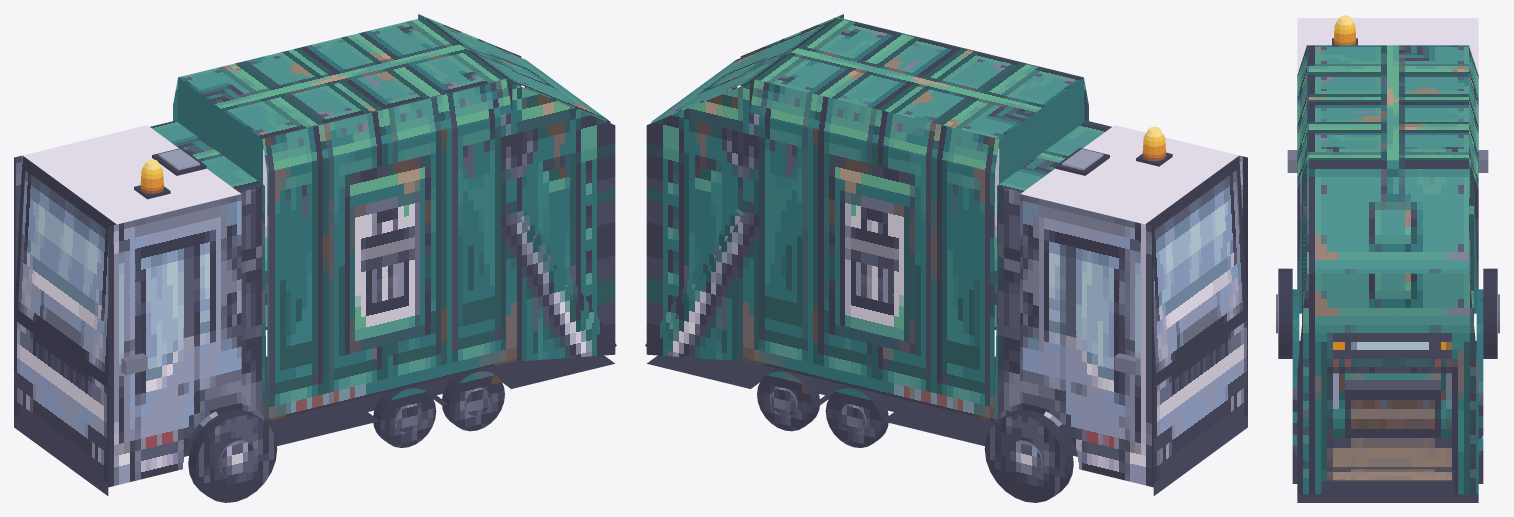
Rendered from garbage-truck-green-v1.glb.
3 views of the same model, side by side, from view 1: azimuth 30°, elevation 25°; view 2: azimuth 150°, elevation 25°; view 3: azimuth 270°, elevation 25° (orthographic). The views are drawn at different scales.
Visible parts, largest first — view 1: Container-west, Cab-west, Loader-side-west, Container-roof, Windshield-glass, Front-fascia, Cab-roof, Container-shoulder-west, Underfloor, Tire_FL, Chassis-coupling-2, Container-front (+10 smaller); view 2: Container-east, Cab-east, Loader-side-east, Container-roof, Windshield-glass, Front-fascia, Cab-roof, Container-shoulder-east, Underfloor, Tire_FR, Chassis-coupling-3, Container-front (+10 smaller); view 3: Container-roof, Loader-roof, Loader-rear-upper, Loader-mouth-back, Cab-roof, Underfloor, Loader-rear-frame-1, Loader-rear-frame--1, Loader-mouth-sill, Tire_FL, Tire_FR, Chassis-coupling-5 (+7 smaller).
Boxes of the visible parts, x1,y1,x2,y2 form: Container-west: (267, 114, 512, 421); Cab-west: (108, 194, 263, 487); Loader-side-west: (512, 83, 615, 361); Container-roof: (178, 17, 506, 138); Windshield-glass: (18, 170, 108, 373); Front-fascia: (14, 320, 108, 495); Cab-roof: (23, 125, 240, 224); Container-shoulder-west: (262, 79, 512, 174); Underfloor: (184, 355, 614, 456); Tire_FL: (188, 410, 277, 502); Chassis-coupling-2: (239, 186, 264, 417); Container-front: (177, 77, 267, 421); Container-east: (749, 114, 994, 421); Cab-east: (998, 194, 1153, 487); Loader-side-east: (646, 83, 749, 361); Container-roof: (755, 17, 1083, 138); Windshield-glass: (1153, 170, 1243, 373); Front-fascia: (1153, 320, 1247, 495); Cab-roof: (1021, 125, 1238, 224); Container-shoulder-east: (749, 79, 999, 174); Underfloor: (647, 355, 1077, 456); Tire_FR: (984, 410, 1073, 502); Chassis-coupling-3: (997, 186, 1022, 417); Container-front: (994, 77, 1084, 421); Container-roof: (1307, 45, 1468, 160); Loader-roof: (1307, 160, 1468, 273); Loader-rear-upper: (1297, 273, 1478, 373); Loader-mouth-back: (1321, 373, 1454, 469); Cab-roof: (1297, 18, 1478, 74); Underfloor: (1297, 265, 1478, 502); Loader-rear-frame-1: (1454, 373, 1478, 494); Loader-rear-frame--1: (1297, 373, 1321, 494); Loader-mouth-sill: (1321, 469, 1454, 481); Tire_FL: (1278, 268, 1292, 358); Tire_FR: (1483, 268, 1497, 358); Chassis-coupling-5: (1302, 160, 1473, 321).
Bounding box in the file's own units: 118 × 76 × 46.9.
1 material, 1 textured.
